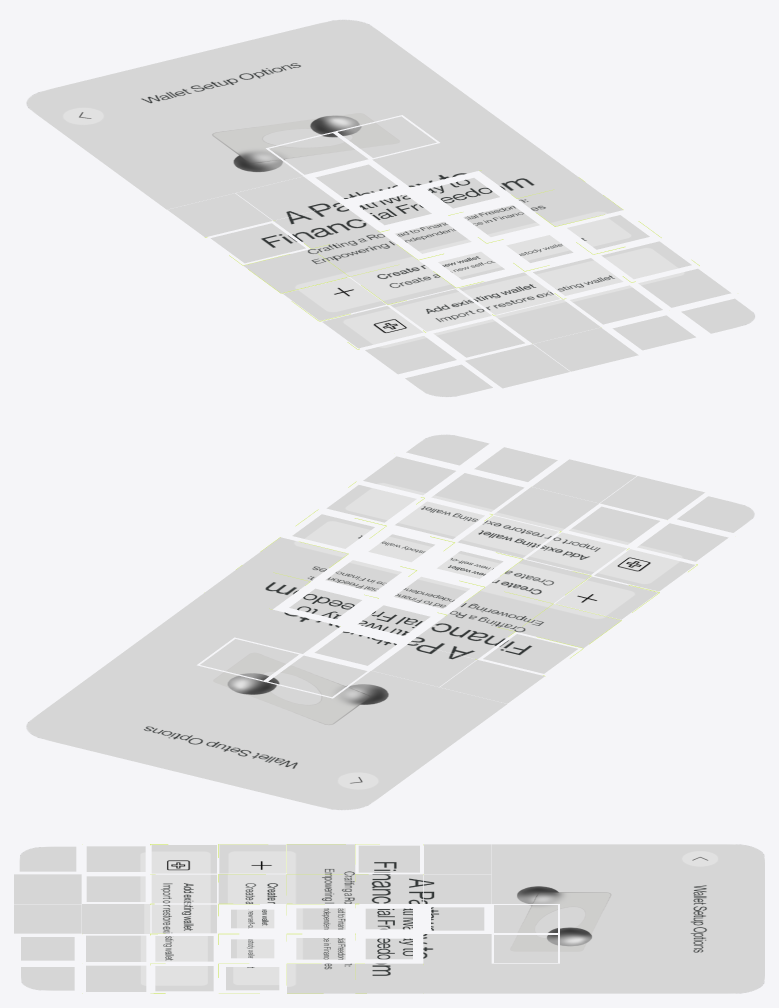
File: NAKA-Mobile-UI_optimized.glb
3 views of the same model, one above another, from view 1: azimuth 30°, elevation 25°; view 2: azimuth 150°, elevation 25°; view 3: azimuth 270°, elevation 25° (orthographic). The views are drawn at different scales.
Visible parts, largest first — view 1: ui-webapp.001; view 2: ui-webapp.001; view 3: ui-webapp.001.
Part boxes in pixels (x1,y1,x2,y2): ui-webapp.001: (27, 20, 754, 396); ui-webapp.001: (26, 434, 754, 809); ui-webapp.001: (14, 844, 764, 993).
Bounding box in the file's own units: 0.4712 × 0.00061 × 0.9996.
2 materials, 1 textured.
